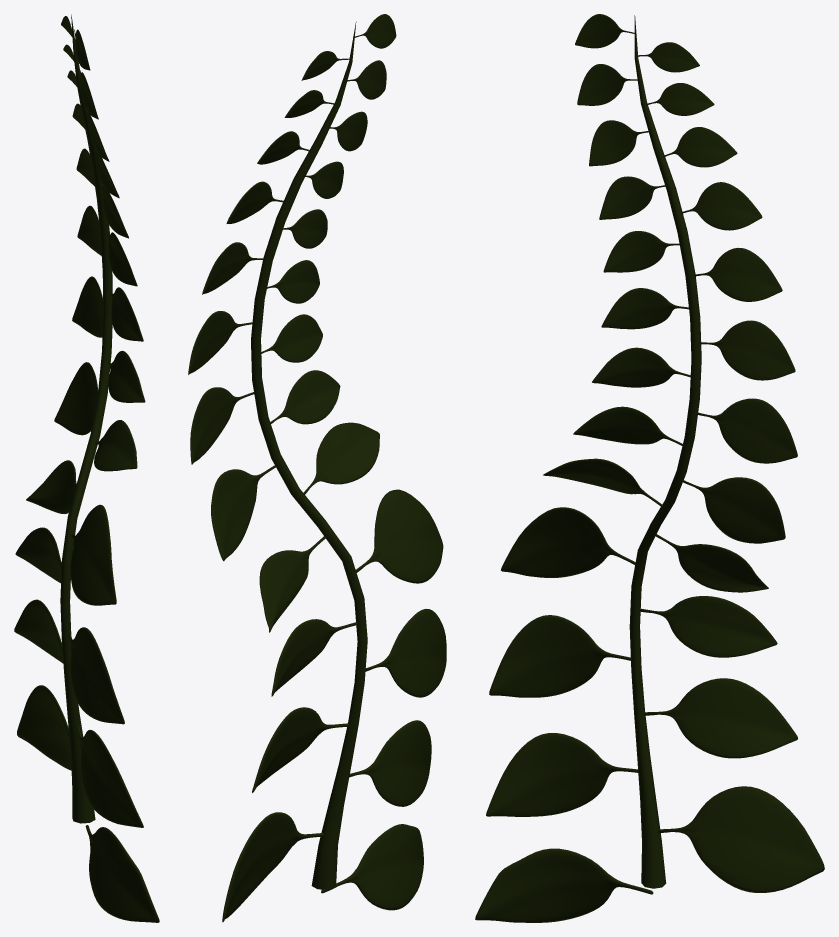
File: plantemonotige2.obj
The picture shows the model from 3 angles, left to right: view 1: azimuth 30°, elevation 25°; view 2: azimuth 150°, elevation 25°; view 3: azimuth 270°, elevation 25°; orthographic projection. The views are drawn at different scales.
Visible parts, largest first — view 1: feuille, tige; view 2: feuille, tige; view 3: feuille, tige.
Part boxes in pixels (x1,y1,x2,y2): feuille: [14, 16, 159, 922]; tige: [60, 14, 112, 823]; feuille: [188, 14, 446, 922]; tige: [251, 21, 367, 889]; feuille: [475, 14, 824, 922]; tige: [629, 15, 701, 888].
Size of the model in its own units: 2.05 by 14.44 by 5.03.
